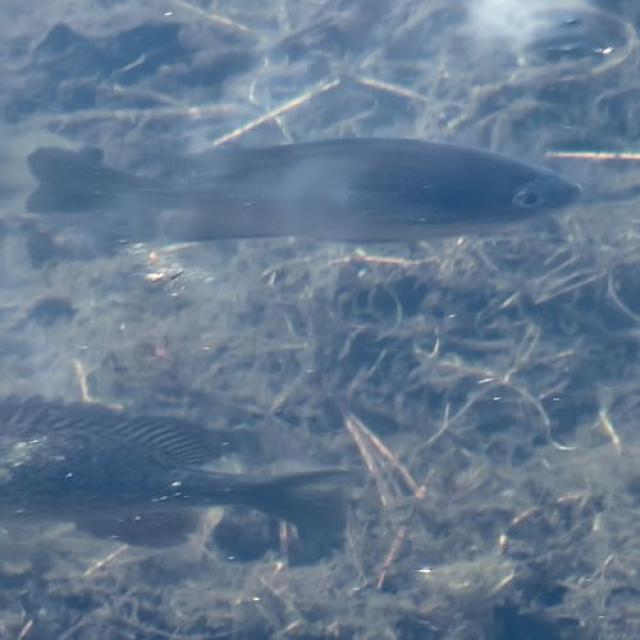Gunes Levregi: (23, 133, 597, 261)
